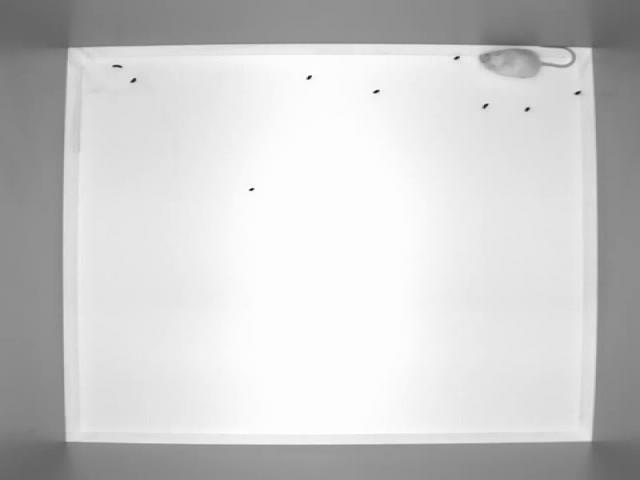Tikus: (466, 40, 580, 80)
